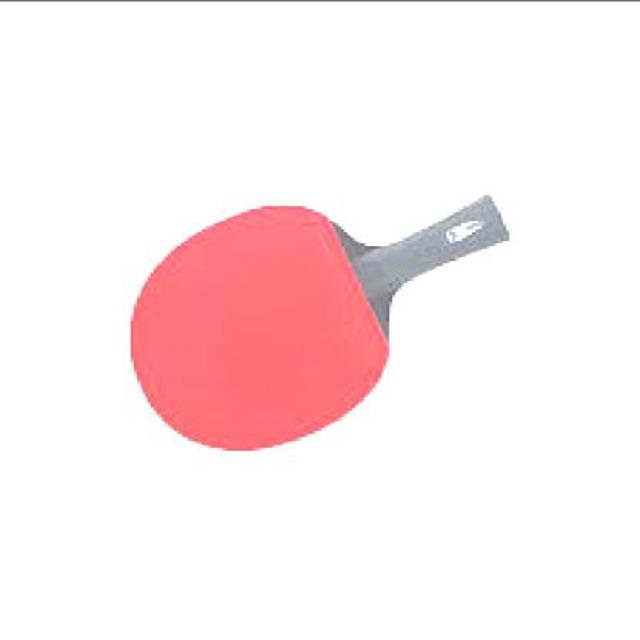table_tennis_racket: (125, 200, 396, 454)
